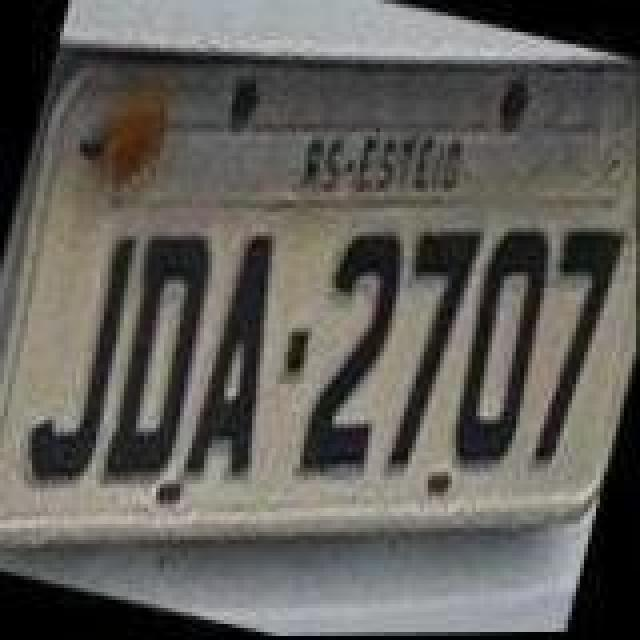2: (286, 224, 422, 488)
7: (362, 220, 482, 476), (508, 220, 624, 472)
A: (186, 234, 306, 490)
D: (90, 222, 226, 486)
J: (20, 224, 152, 492)
O: (438, 220, 566, 472)
